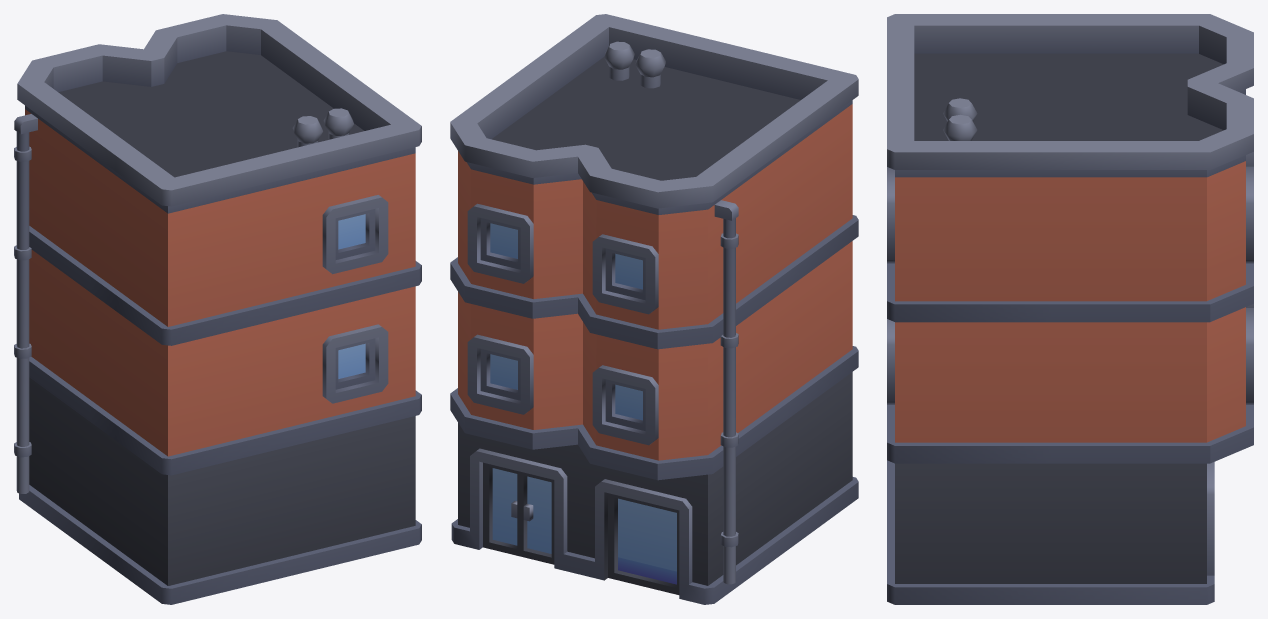
Rendered from building-a-b.glb.
3 views of the same model, side by side, from view 1: azimuth 30°, elevation 25°; view 2: azimuth 150°, elevation 25°; view 3: azimuth 270°, elevation 25° (orthographic). The views are drawn at different scales.
Parts seen in each view (by area): view 1: building-a; view 2: building-a; view 3: building-a.
Part boxes in pixels (x1=…): building-a: x1=14, y1=14, x2=421, y2=604; building-a: x1=450, y1=14, x2=858, y2=604; building-a: x1=887, y1=14, x2=1253, y2=604.
Bounding box in the file's own units: 0.8836 × 1.29 × 0.94.
1 material, 1 textured.
